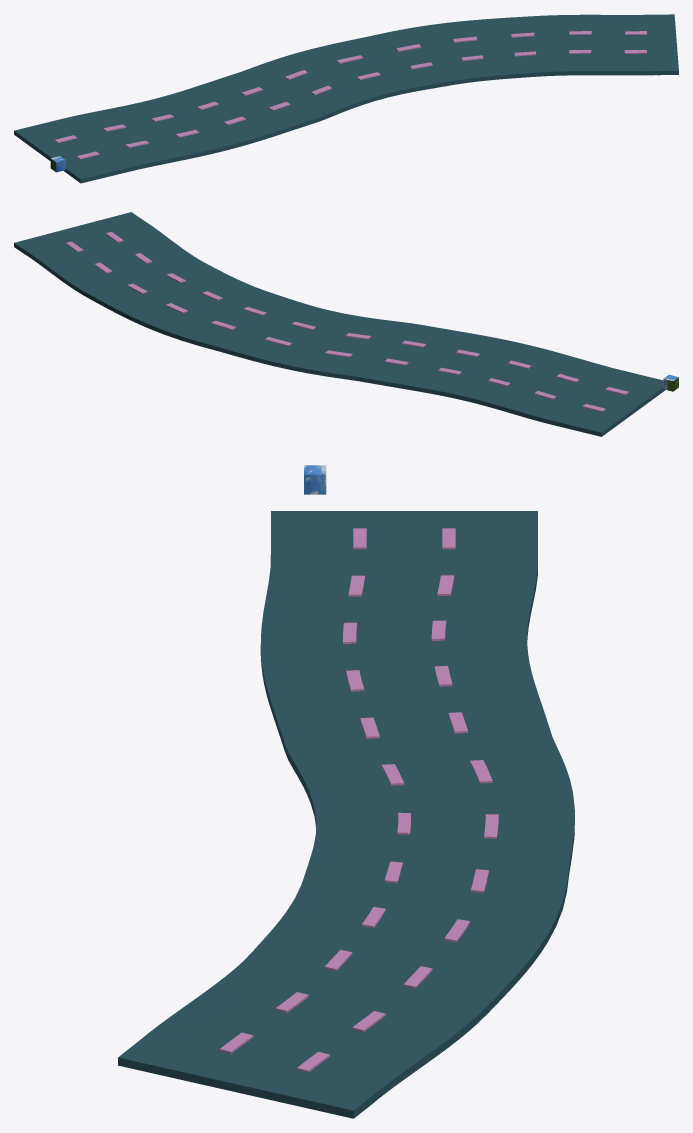
File: weg3.obj
3 renders of one model, top to bottom at view 1: azimuth 30°, elevation 25°; view 2: azimuth 150°, elevation 25°; view 3: azimuth 270°, elevation 25°, orthographic. The views are drawn at different scales.
Parts seen in each view (by area): view 1: Cube.001, Cube; view 2: Cube.001, Cube; view 3: Cube.001, Cube.
Boxes of the visible parts, box(x1,y1,x2,y2) form: Cube.001: box(14, 14, 658, 183); Cube: box(656, 14, 678, 75); Cube.001: box(23, 219, 665, 436); Cube: box(14, 212, 142, 254); Cube.001: box(138, 511, 574, 1105); Cube: box(118, 1042, 374, 1118).
Size of the model in its own units: 65.39 by 1.98 by 20.52.
32 materials, 32 textured.
